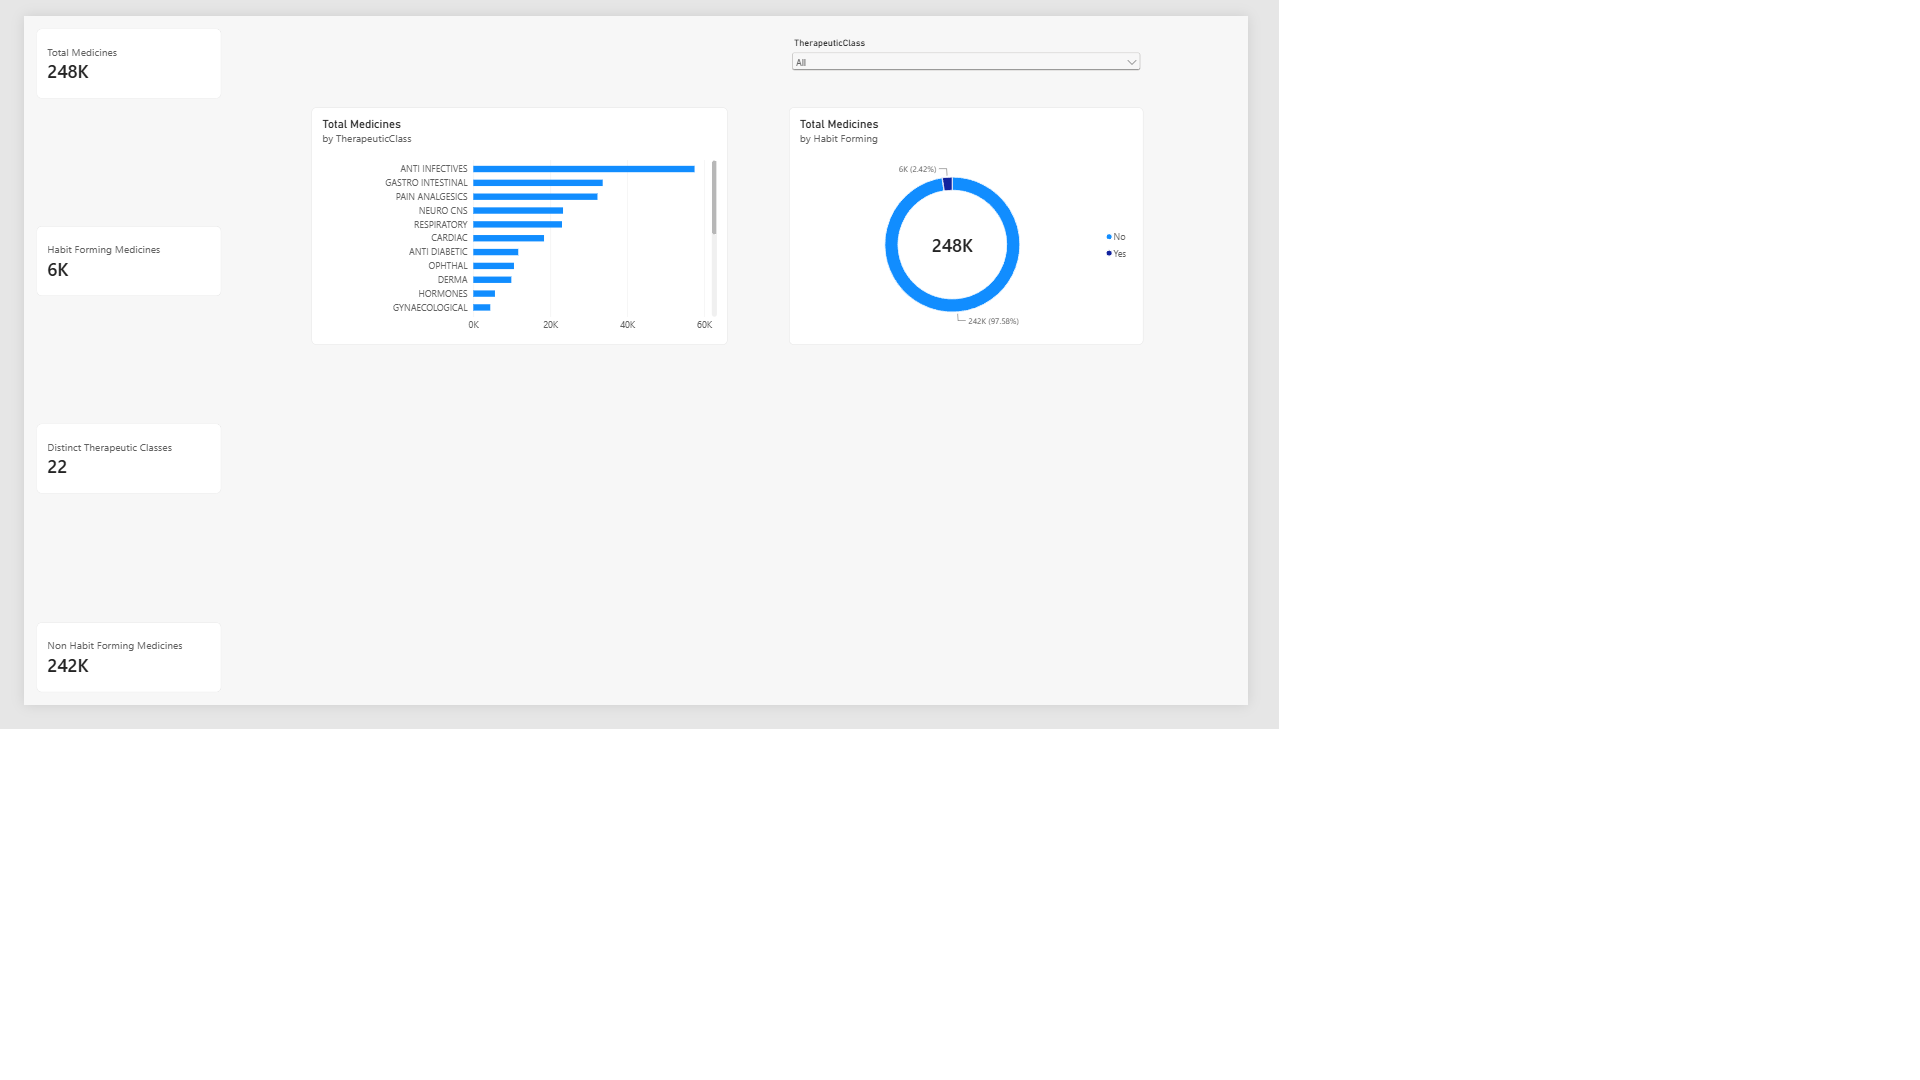

The page's visual inventory and layout, read from the dashboard file:
{"tool":"powerbi","page":{"name":"Page 1","canvas":[1920,1080],"ordinal":0},"visuals":[{"type":"cardVisual","fields":{"Data":["DimMedicine.Total Medicines"]},"box":[20,20,290,110],"z":0},{"type":"cardVisual","fields":{"Data":["DimMedicine.Habit Forming Medicines"]},"box":[20,330,290,110],"z":1000},{"type":"cardVisual","fields":{"Data":["DimMedicine.Distinct Therapeutic Classes"]},"box":[20,640,290,110],"z":2000},{"type":"cardVisual","fields":{"Data":["DimMedicine.Non Habit Forming Medicines"]},"box":[20,950,290,110],"z":3000},{"type":"donutChart","fields":{"Category":["DimMedicine.Habit Forming"],"Y":["DimMedicine.Total Medicines"]},"box":[1200.7,143.5,555.8,372.8],"z":4000},{"type":"barChart","fields":{"Category":["DimTherapeuticClass.TherapeuticClass"],"Y":["DimMedicine.Total Medicines"]},"box":[451.9,143.5,653.1,372.8],"z":5000},{"type":"slicer","fields":{"Values":["DimTherapeuticClass.TherapeuticClass"]},"box":[1200.7,33,555.8,506.4],"z":6000}]}

Visuals, with their boxes in screenshot pixels (x1, y1, x2, y2), scaled from the page's 1920x1080 canvas onto the 1920x1080 screenshot:
cardVisual - DimMedicine.Total Medicines: locate(20, 20, 310, 130)
cardVisual - DimMedicine.Habit Forming Medicines: locate(20, 330, 310, 440)
cardVisual - DimMedicine.Distinct Therapeutic Classes: locate(20, 640, 310, 750)
cardVisual - DimMedicine.Non Habit Forming Medicines: locate(20, 950, 310, 1060)
donutChart - DimMedicine.Habit Forming x DimMedicine.Total Medicines: locate(1201, 144, 1756, 516)
barChart - DimTherapeuticClass.TherapeuticClass x DimMedicine.Total Medicines: locate(452, 144, 1105, 516)
slicer - DimTherapeuticClass.TherapeuticClass: locate(1201, 33, 1756, 539)
